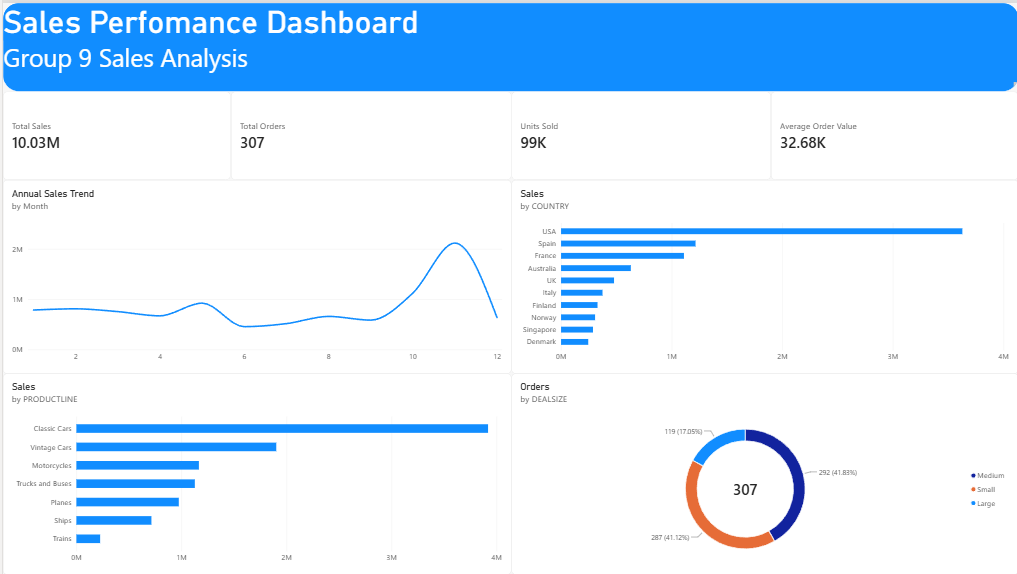

What the dashboard file says about the page in this screenshot:
{"tool":"powerbi","page":{"name":"Page 1","canvas":[1920,1080],"ordinal":0},"visuals":[{"type":"cardVisual","fields":{"Data":["Sum(sales_data_sample.SALES)"]},"box":[0,167.2,430.9,167.2],"z":0},{"type":"cardVisual","fields":{"Data":["Count(sales_data_sample.ORDERNUMBER)"]},"box":[430.9,167.2,530.1,167.2],"z":1},{"type":"cardVisual","fields":{"Data":["Sum(sales_data_sample.QUANTITYORDERED)"]},"box":[961,167.2,490.4,167.2],"z":2},{"type":"cardVisual","fields":{"Data":["sales_data_sample.Average Order Value"]},"box":[1451.3,167.2,467.7,167.2],"z":3},{"type":"lineChart","fields":{"Category":["sales_data_sample.MONTH_ID"],"Y":["Sum(sales_data_sample.SALES)"]},"box":[0,334.5,961,365.7],"z":4},{"type":"clusteredBarChart","fields":{"Category":["sales_data_sample.COUNTRY"],"Y":["Sum(sales_data_sample.SALES)"]},"box":[961,334.5,958.1,365.7],"z":5},{"type":"clusteredBarChart","fields":{"Category":["sales_data_sample.PRODUCTLINE"],"Y":["Sum(sales_data_sample.SALES)"]},"box":[0,700.2,961,379.8],"z":6},{"type":"donutChart","fields":{"Category":["sales_data_sample.DEALSIZE"],"Y":["Count(sales_data_sample.ORDERNUMBER)"]},"box":[961,700.2,958.1,379.8],"z":7},{"type":"textbox","title":"Sales Perfomance Dashboard","box":[0,0,1919.1,167.2],"z":8}]}

Visuals, with their boxes in screenshot pixels (x1, y1, x2, y2), scaled from the page's 1920x1080 canvas onto the 1017x574 screenshot:
cardVisual - Sum(sales_data_sample.SALES): x1=0 y1=89 x2=228 y2=178
cardVisual - Count(sales_data_sample.ORDERNUMBER): x1=228 y1=89 x2=509 y2=178
cardVisual - Sum(sales_data_sample.QUANTITYORDERED): x1=509 y1=89 x2=769 y2=178
cardVisual - sales_data_sample.Average Order Value: x1=769 y1=89 x2=1016 y2=178
lineChart - sales_data_sample.MONTH_ID x Sum(sales_data_sample.SALES): x1=0 y1=178 x2=509 y2=372
clusteredBarChart - sales_data_sample.COUNTRY x Sum(sales_data_sample.SALES): x1=509 y1=178 x2=1016 y2=372
clusteredBarChart - sales_data_sample.PRODUCTLINE x Sum(sales_data_sample.SALES): x1=0 y1=372 x2=509 y2=573
donutChart - sales_data_sample.DEALSIZE x Count(sales_data_sample.ORDERNUMBER): x1=509 y1=372 x2=1016 y2=573
"Sales Perfomance Dashboard" textbox: x1=0 y1=0 x2=1016 y2=89
